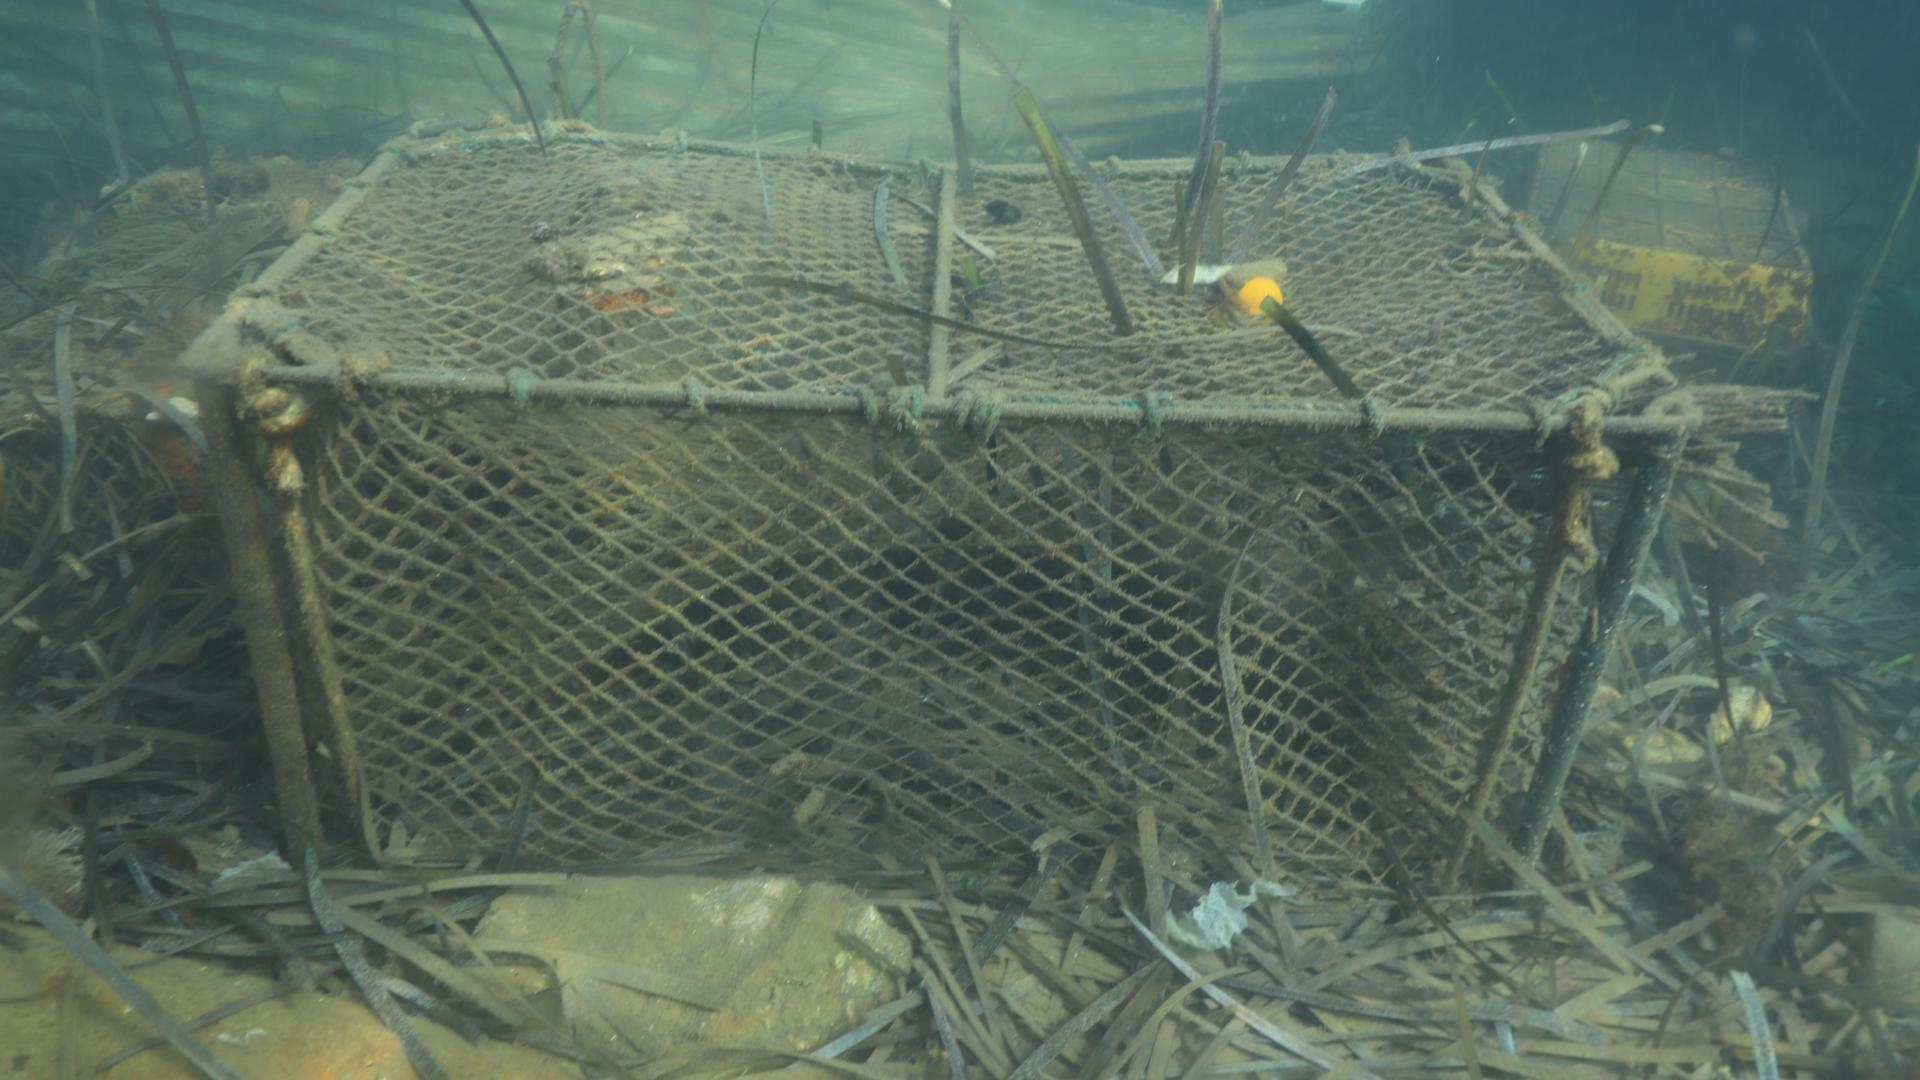rectangular fish trap: (166, 109, 1708, 928)
